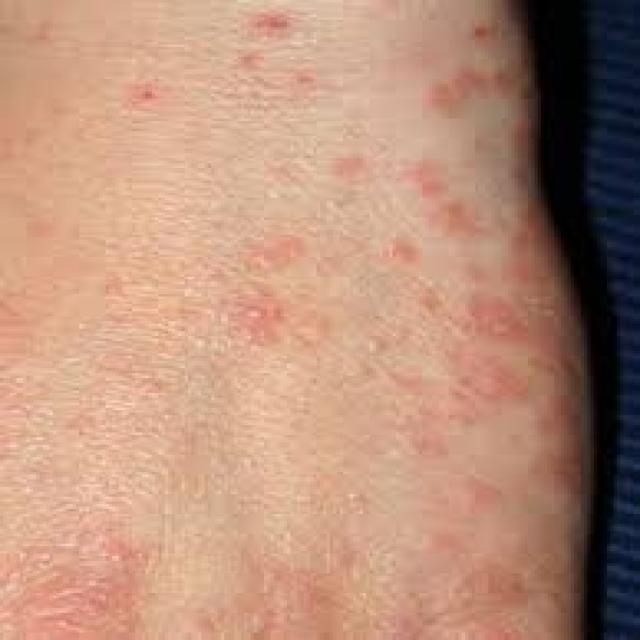kan emici bocekler: (77, 41, 524, 625)
